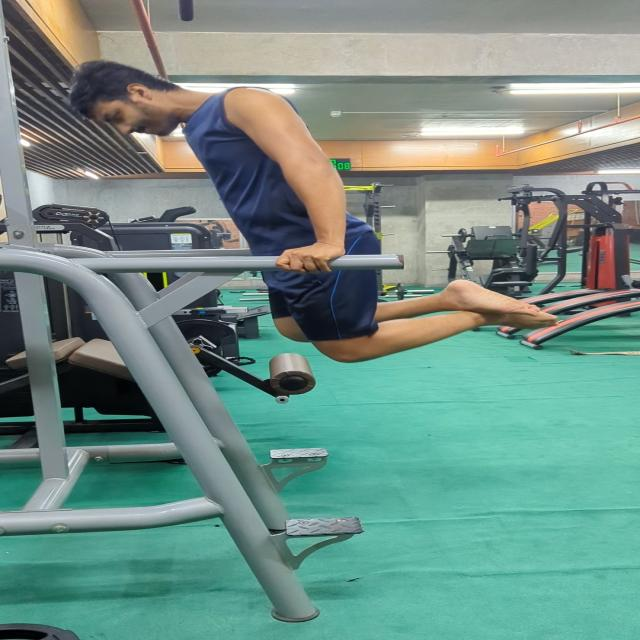Normal_Dips: (56, 57, 563, 368)
